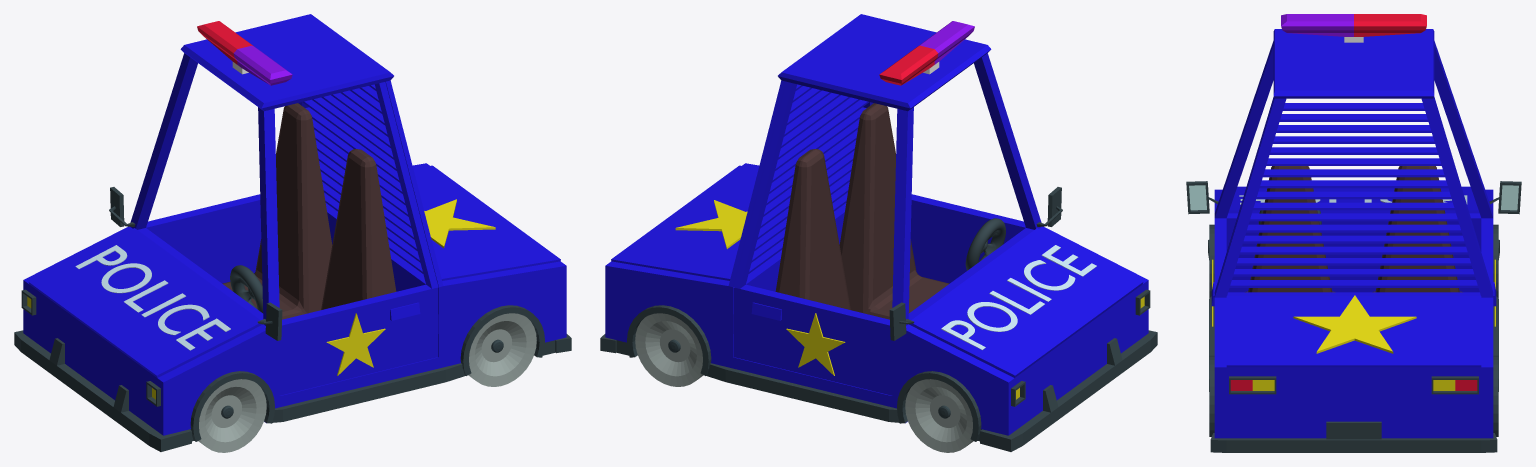
File: Car1.fbx
3 views of the same model, side by side, from view 1: azimuth 30°, elevation 25°; view 2: azimuth 150°, elevation 25°; view 3: azimuth 270°, elevation 25° (orthographic).
Visible parts, largest first — view 1: Cube.001; view 2: Cube.001; view 3: Cube.001.
Part boxes in pixels (bbox=[...]): Cube.001: bbox=[14, 14, 571, 452]; Cube.001: bbox=[600, 14, 1157, 452]; Cube.001: bbox=[1186, 14, 1521, 452].
Bounding box in the file's own units: 343 × 262 × 241.
